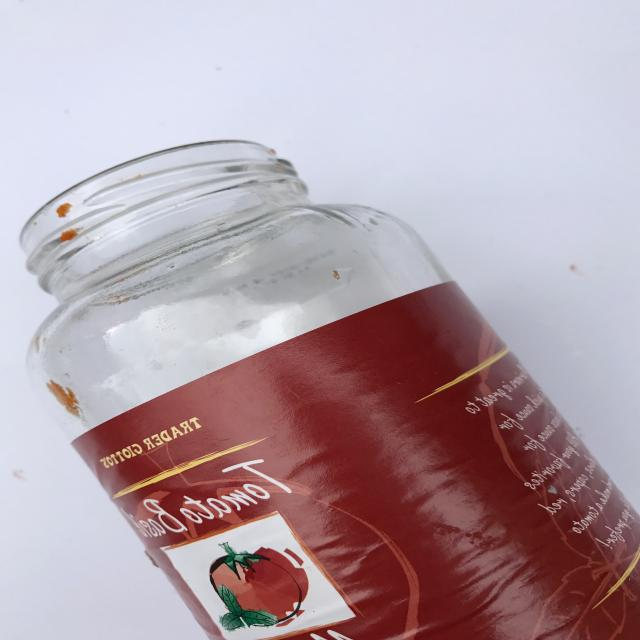glass: (21, 134, 640, 640)
